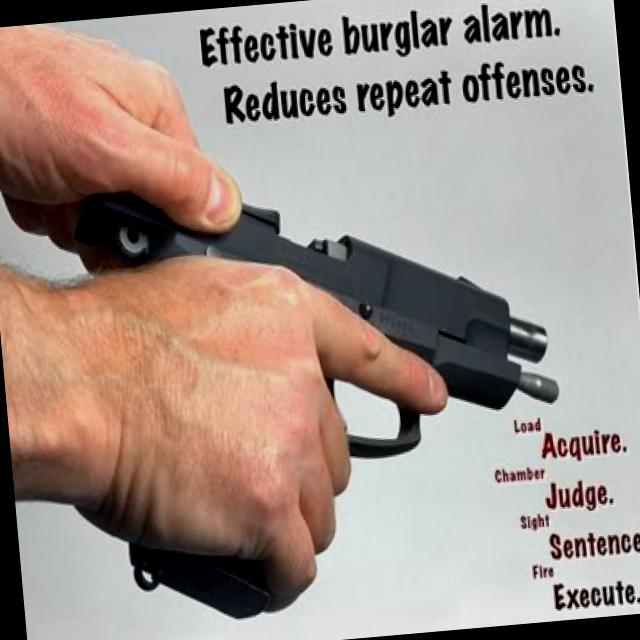handgun: (66, 124, 573, 626)
